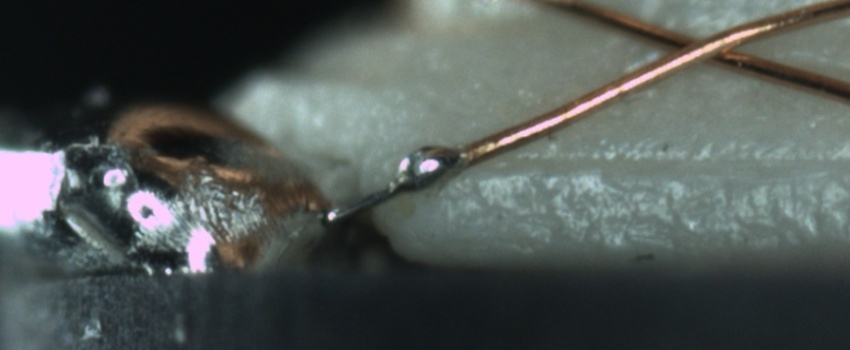CL: (645, 21, 772, 72)
DL: (471, 131, 849, 199)
TB: (386, 135, 468, 193)
TS: (324, 147, 467, 224)
TTCW: (319, 125, 519, 227)
